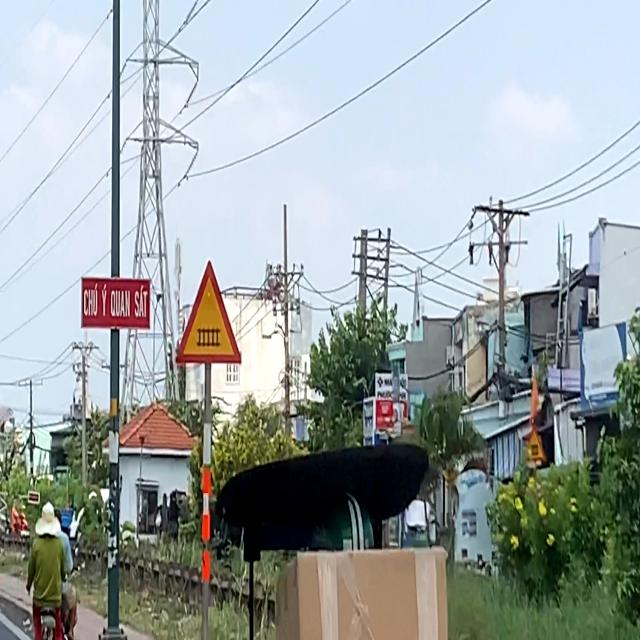W.210: (171, 252, 248, 371)
